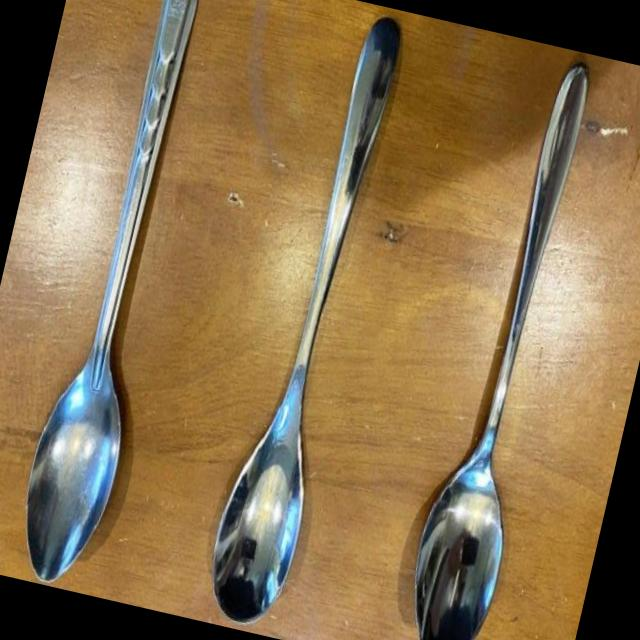spoon: (7, 0, 234, 591)
